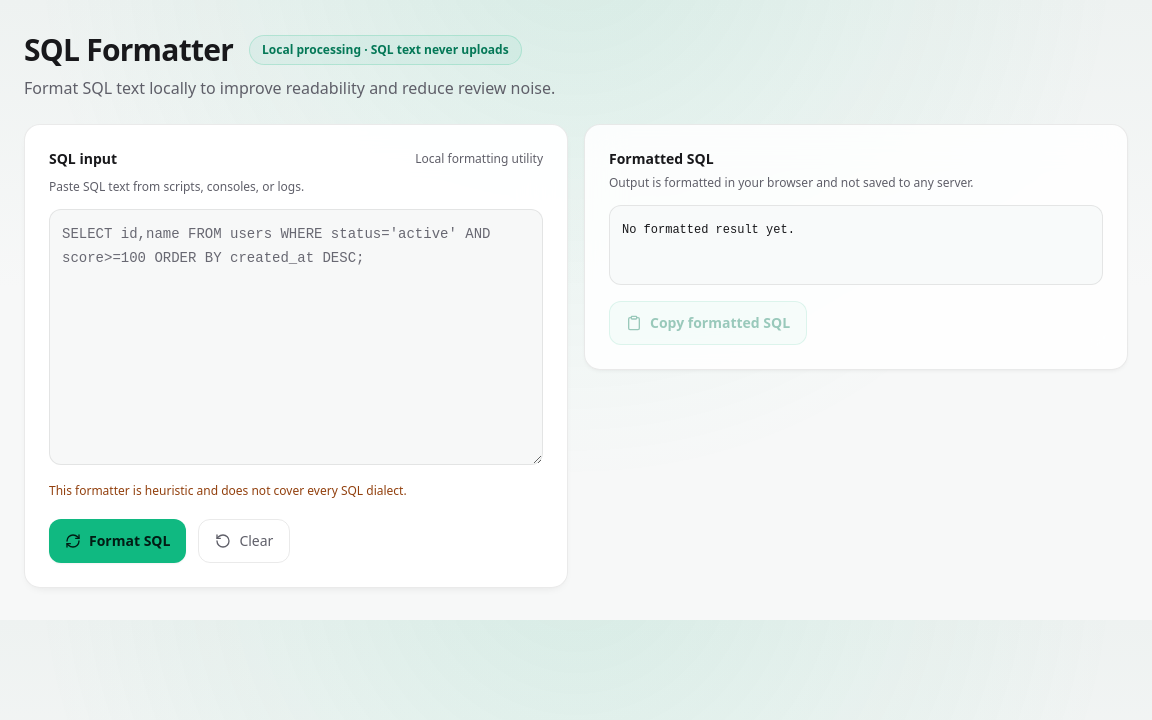
SQL formatter client › formats SQL and renders output
Replace the text in the text box with placeholder "SELECT id,name FROM users WHERE status='active' AND score>=100 ORDER BY created_at DESC;" with "SELECT id,name from users where status='active' and score>=100 order by created_at desc;" at (296, 337), box [49,209,543,465]
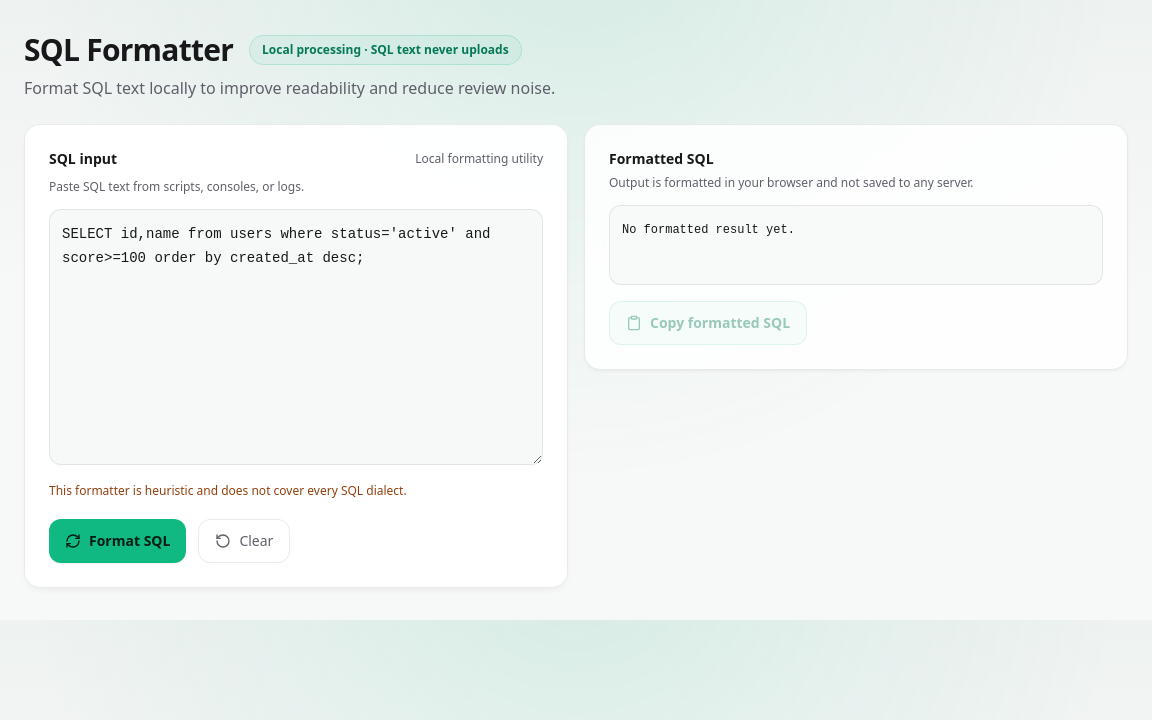
Click the button "Format SQL" at (118, 541), box [49,519,186,563]
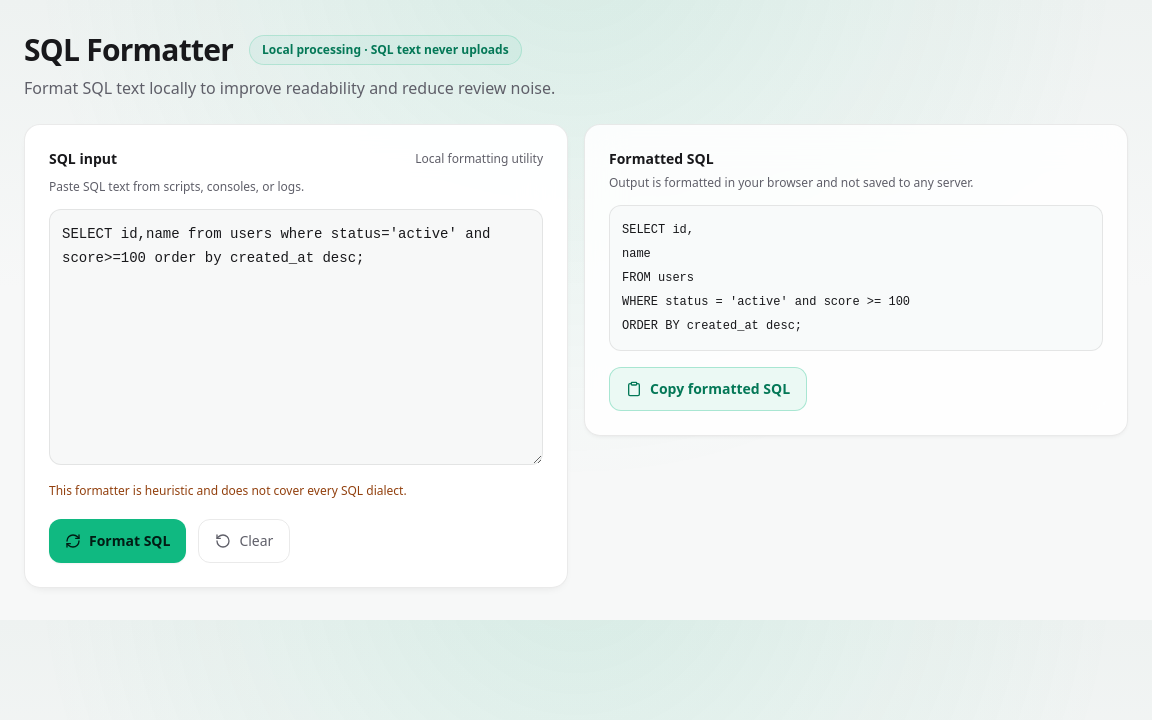
Expected: the text with test id "sql-output" shows "SELECT", [622,223,910,333]
Expected: the text with test id "sql-output" shows "FROM", [622,223,910,333]
Expected: the text with test id "sql-output" shows "ORDER BY", [622,223,910,333]
